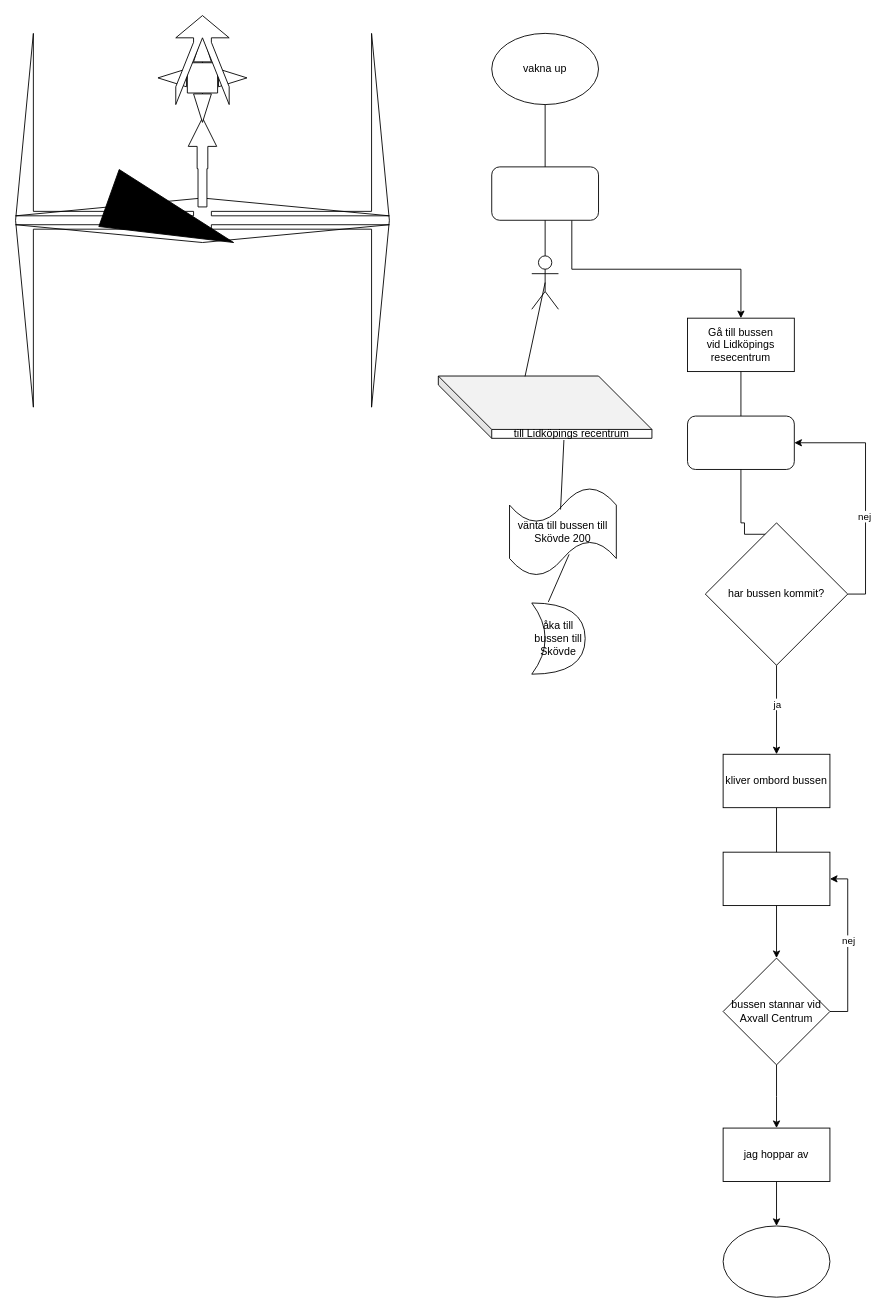
Image size: 888x1313. Some labels were removed from this diagram. Here are the shapes that lost their labels. From the top down, the centre of each, then its label:
At (545,193): "äta frukost".
At (544,282): "gå till bussen".
At (740,442): "är på resecentrum och väntar på Skövde 200 bussen".
At (776,878): "väntar på att stanna vid Axvall Centrum".
At (776,1261): "är på Axevalla Folkhögskolan".
